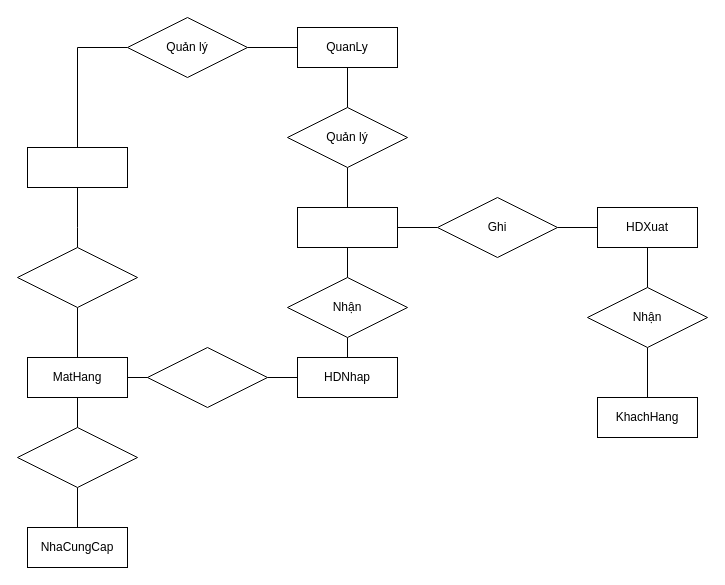
Some shapes in this 725 by 585 pixel diagram are drawn without their labels. Each missing label, with the centre of its shape:
"Cung cấp" belongs at (x=77, y=457).
"Kho" belongs at (x=77, y=167).
"NhanVien" belongs at (x=347, y=227).
"Được chứa" belongs at (x=77, y=277).
"Được ghi" belongs at (x=207, y=377).
